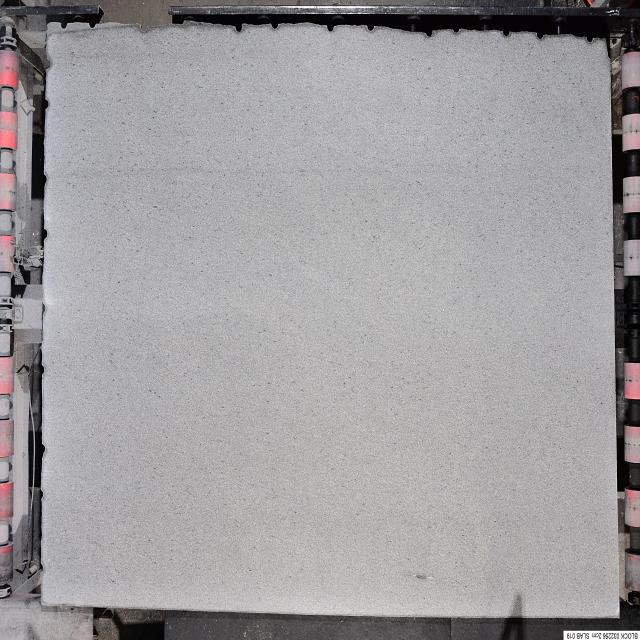chapa: (42, 24, 619, 616)
veio: (536, 28, 546, 41), (586, 32, 596, 44), (366, 22, 376, 34), (60, 18, 68, 31), (326, 22, 334, 34), (236, 23, 243, 34)
